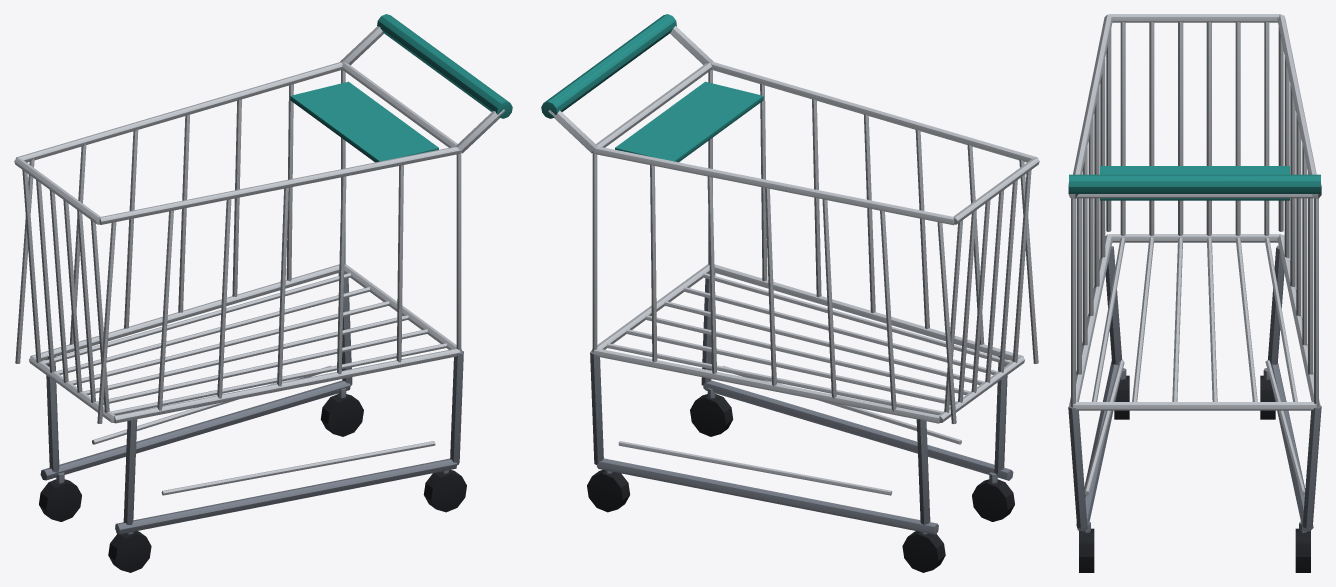
File: shopping_cart_01.fbx
The picture shows the model from 3 angles, left to right: view 1: azimuth 30°, elevation 25°; view 2: azimuth 150°, elevation 25°; view 3: azimuth 270°, elevation 25°; orthographic projection. The views are drawn at different scales.
Parts seen in each view (by area): view 1: shopping_cart_01_LOD0; view 2: shopping_cart_01_LOD0; view 3: shopping_cart_01_LOD0.
Boxes of the visible parts, left/top/right/bottom form: shopping_cart_01_LOD0: left=14, top=14, right=512, bottom=572; shopping_cart_01_LOD0: left=541, top=14, right=1039, bottom=572; shopping_cart_01_LOD0: left=1068, top=14, right=1321, bottom=572.
Size of what is drawn, in the model's own units: 1.09 by 1.05 by 0.5737.
1 material, 1 textured.
